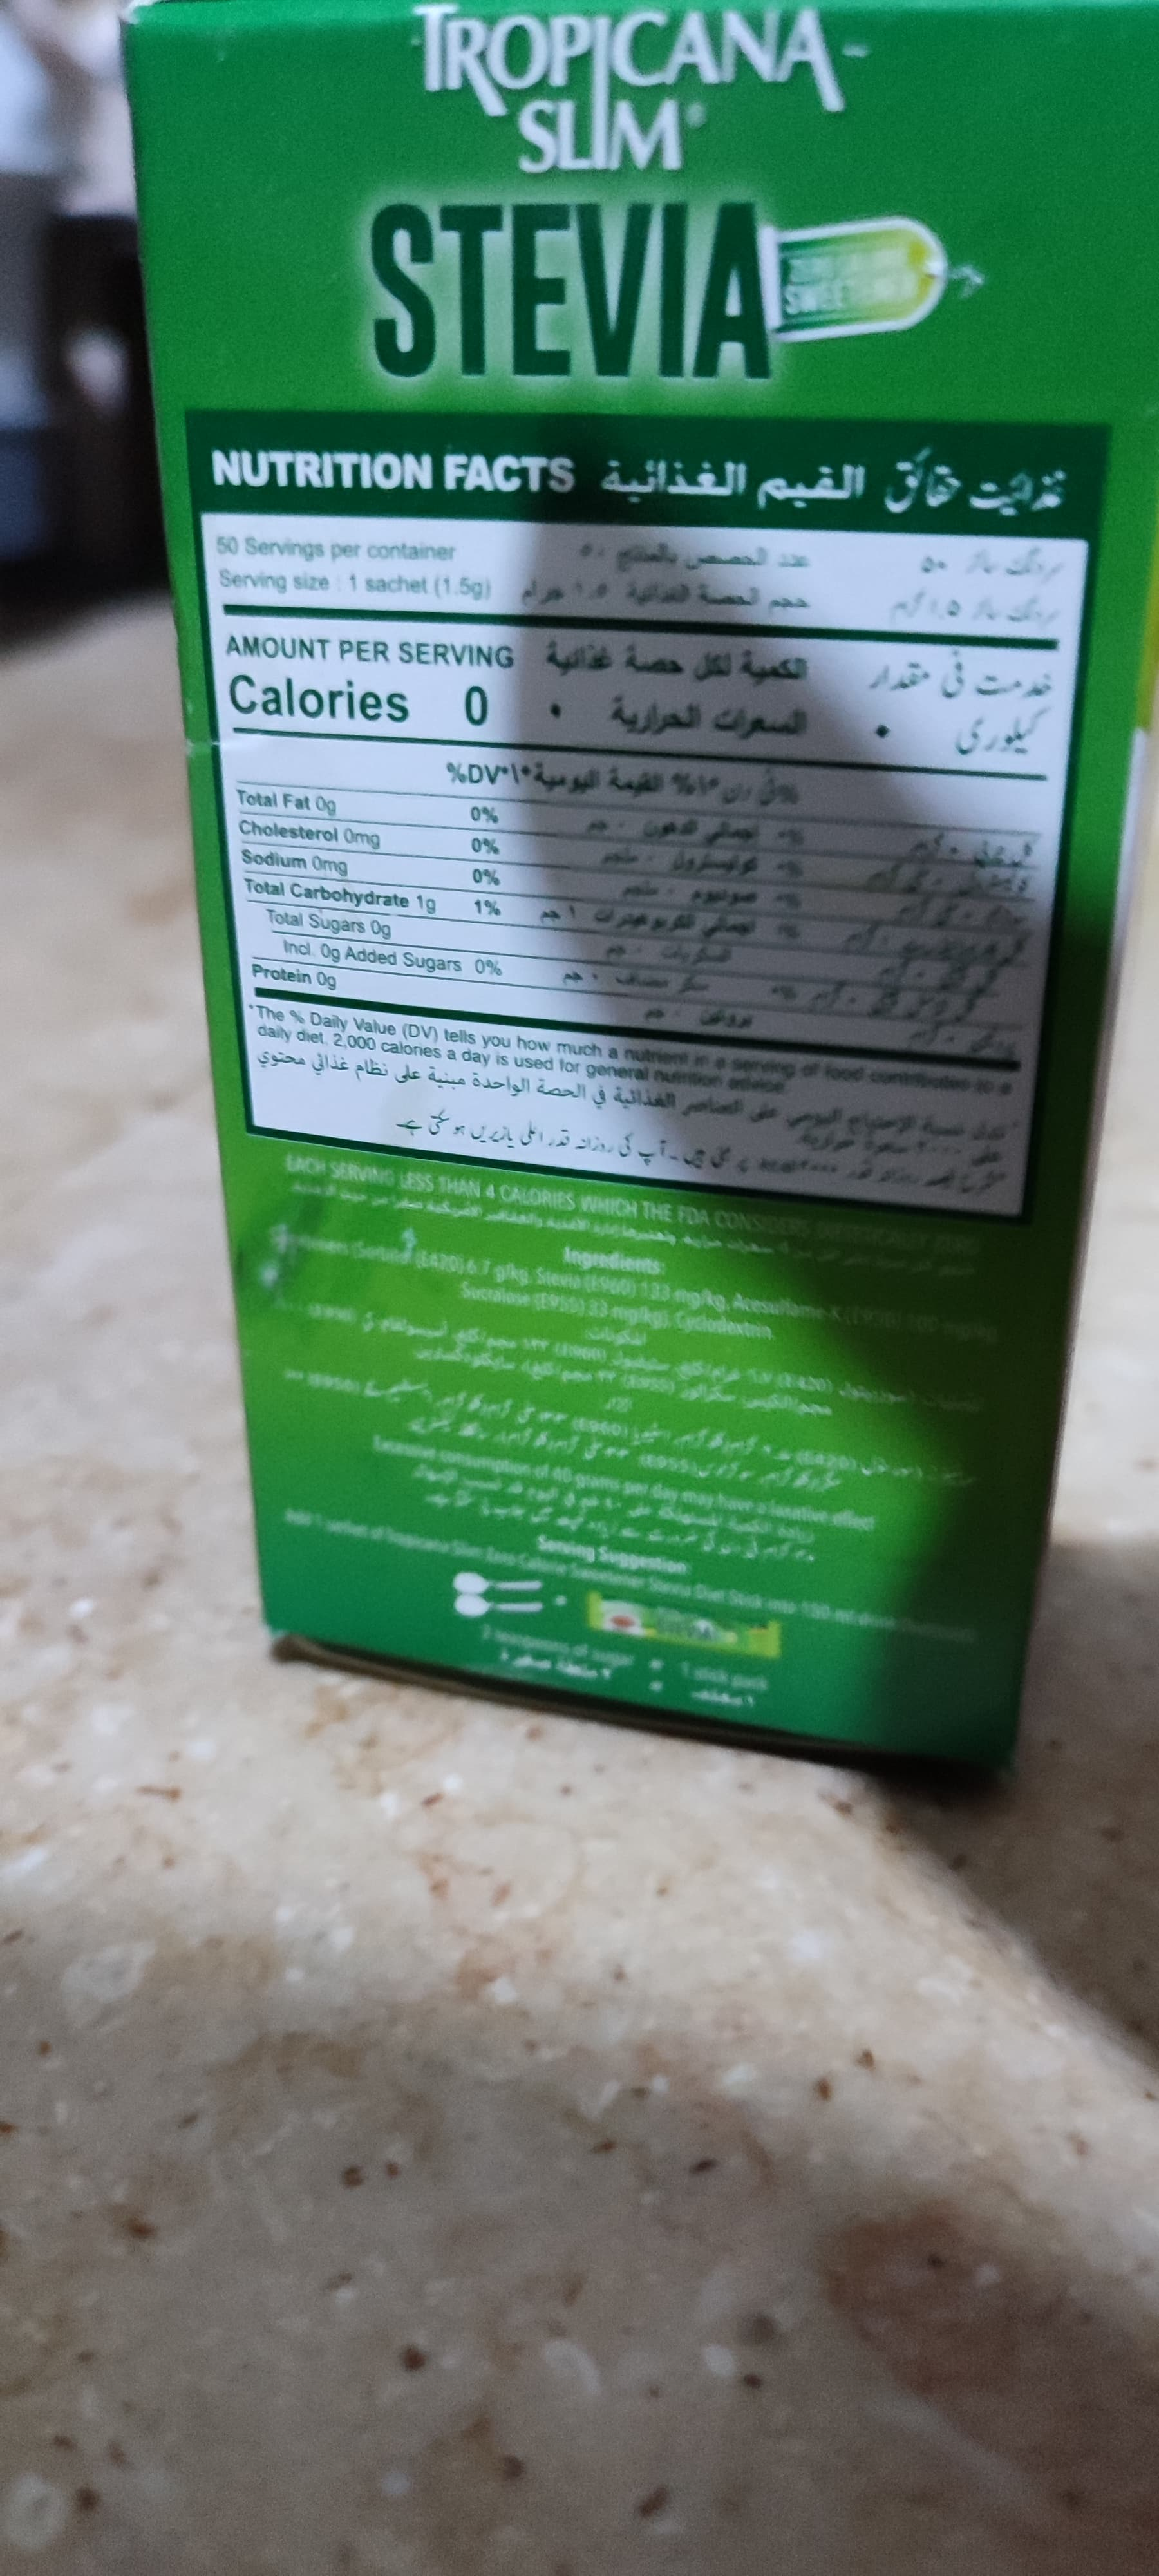table: (166, 379, 1120, 1226)
